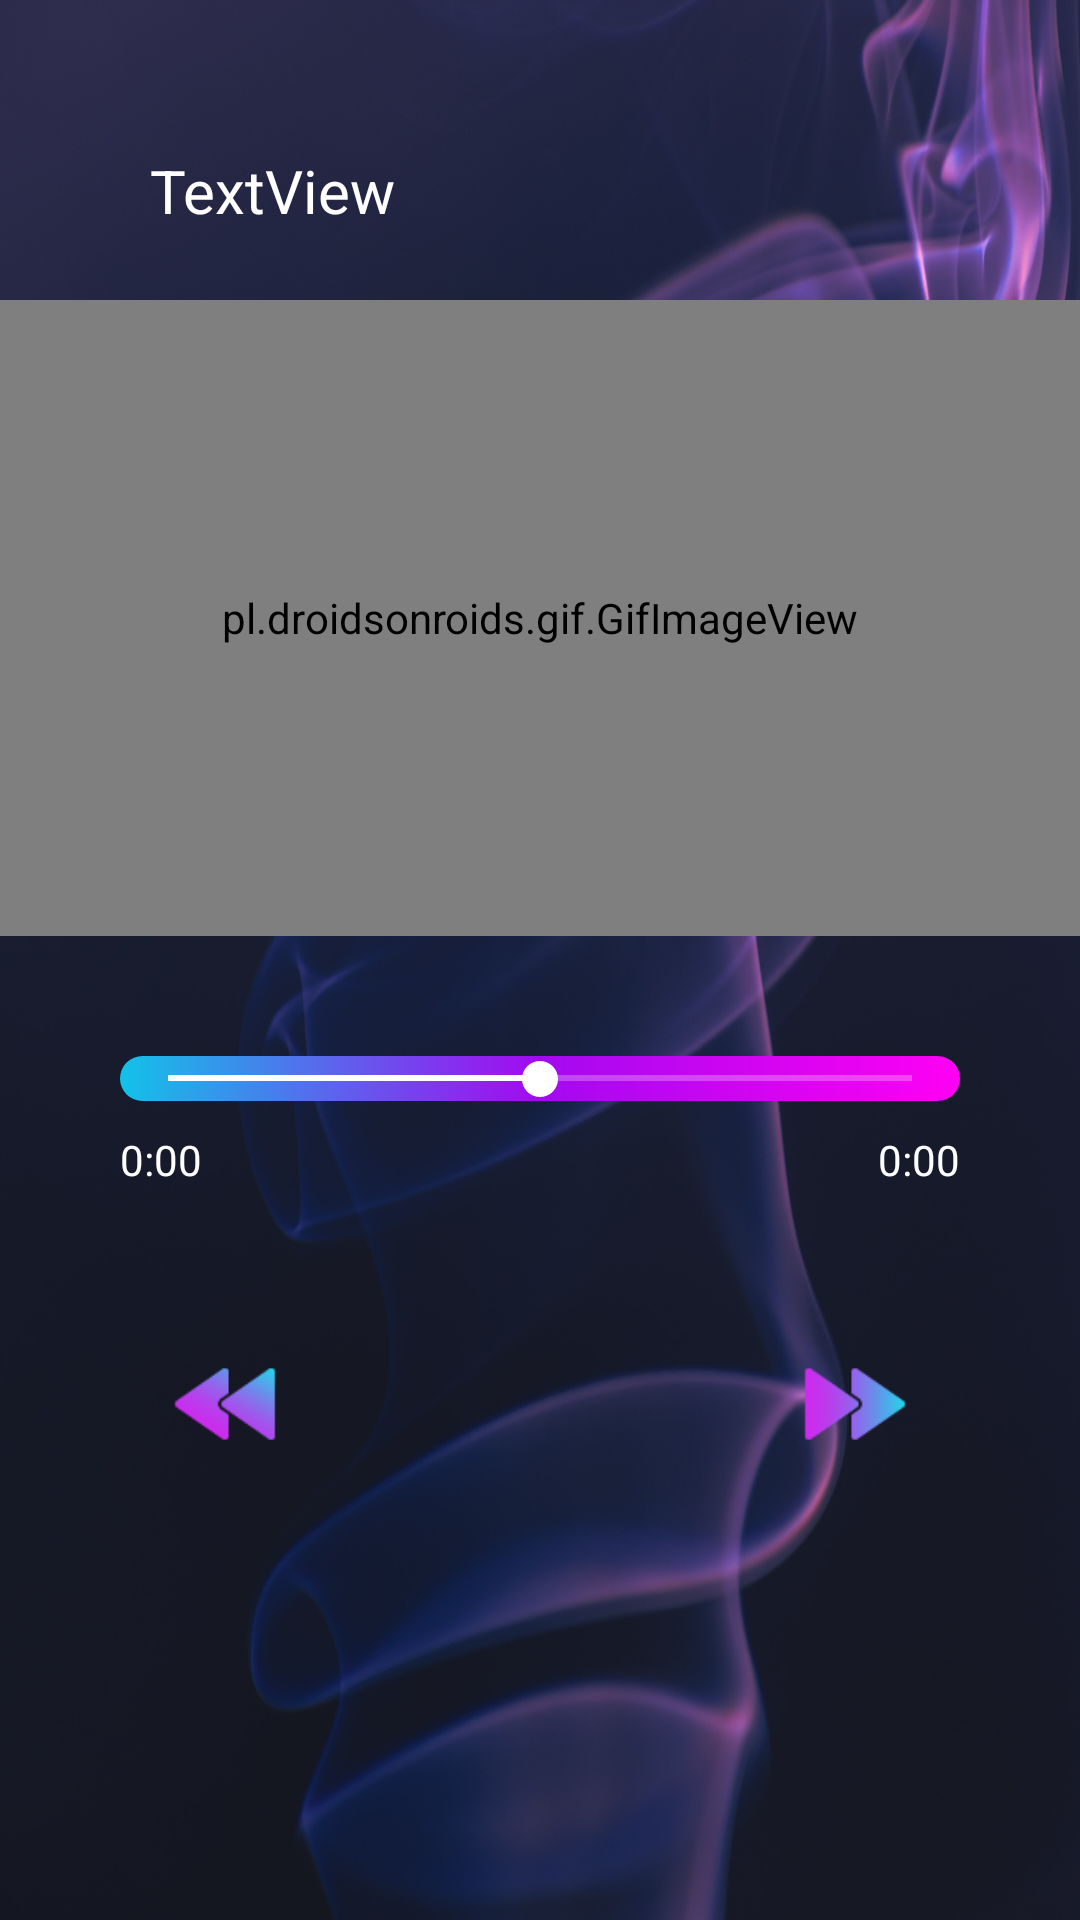

Named icons in this screenshot (1080px x 1920px) and their centers, point (x, y):
next: point (852, 1404)
prev: point (225, 1404)
